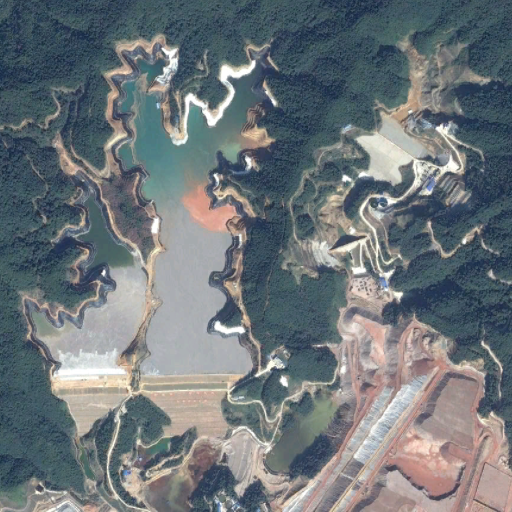tp: (110, 36, 276, 445), (25, 138, 144, 433), (355, 39, 484, 190)
